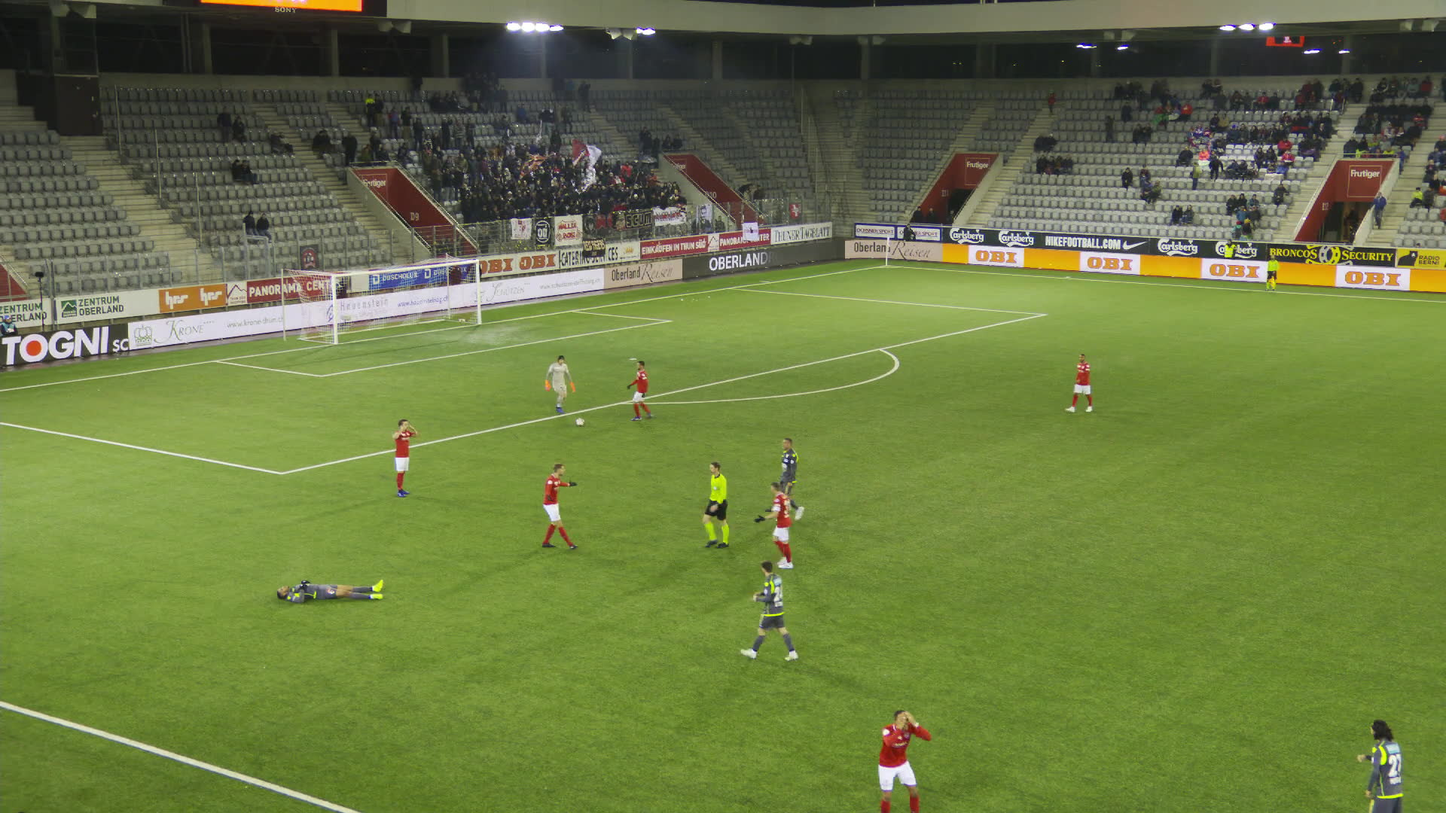ball: (575, 417, 584, 427)
player: (865, 702, 938, 812), (746, 553, 800, 665), (1353, 711, 1408, 812), (755, 477, 812, 572), (531, 455, 581, 554), (271, 567, 389, 607), (766, 436, 814, 525), (386, 416, 420, 501), (538, 351, 578, 416), (626, 355, 663, 422), (1066, 349, 1100, 416)
referee: (691, 457, 741, 551), (1262, 251, 1280, 292)
